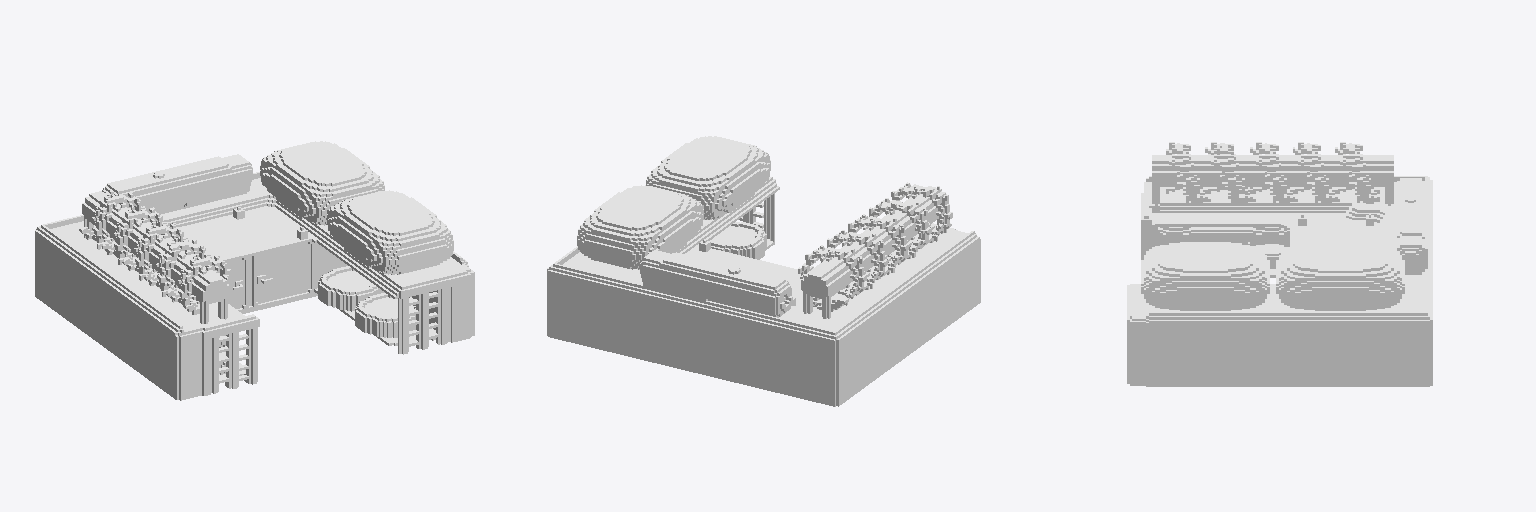
File: base_upgrade_station_v1.obj
The picture shows the model from 3 angles: view 1: azimuth 30°, elevation 25°; view 2: azimuth 150°, elevation 25°; view 3: azimuth 270°, elevation 25°; orthographic projection.
Parts seen in each view (by area): view 1: object 1; view 2: object 1; view 3: object 1.
Boxes of the visible parts, x1=… form: object 1: x1=35, y1=141, x2=474, y2=400; object 1: x1=547, y1=136, x2=980, y2=406; object 1: x1=1127, y1=142, x2=1432, y2=386.
Bounding box in the file's own units: 12 × 4.7 × 10.9.